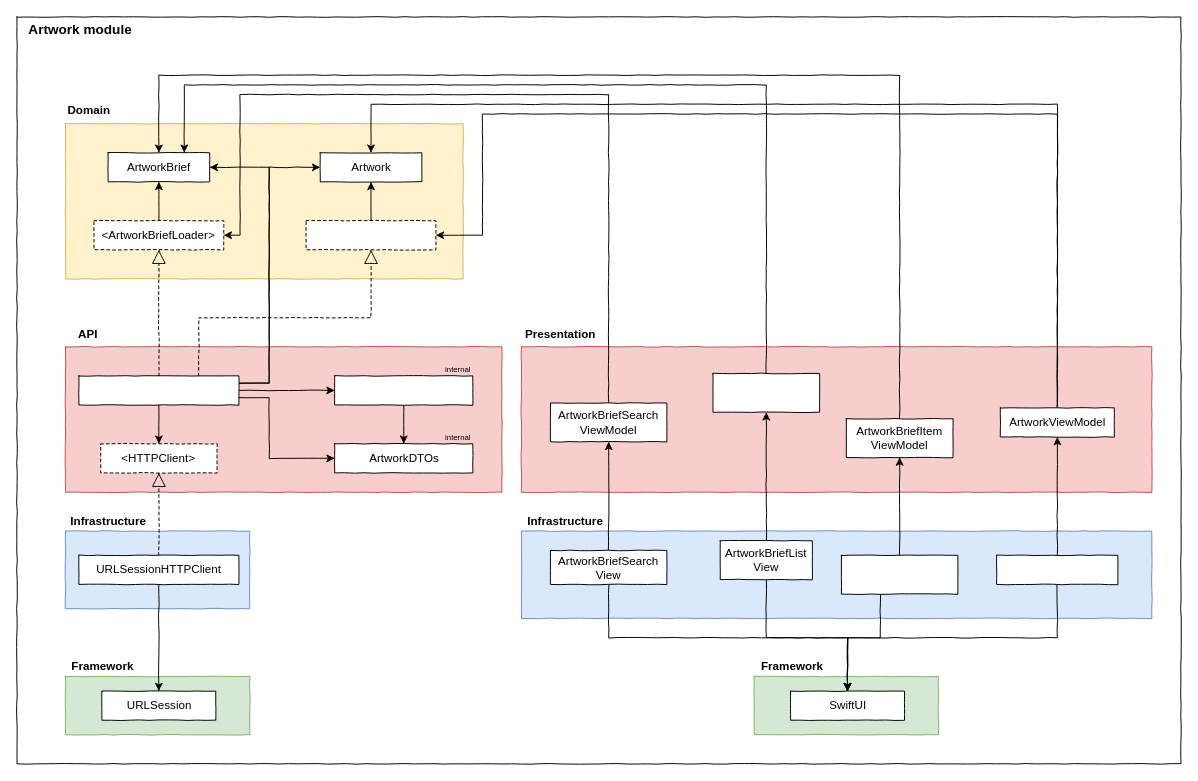
Image size: 1198x781. Some labels were removed from this diagram. The centre of each missing label's shape, as x and y in pixels:
"<ArtworkLoader>" belongs at (370,235).
"ArtworkBriefItem View" belongs at (899,574).
"ArtworkBriefList ViewModel" belongs at (766,392).
"ArtworkMapper" belongs at (403,390).
"ArtworkView" belongs at (1057,569).
"RemoteArtworkLoader" belongs at (158,390).
